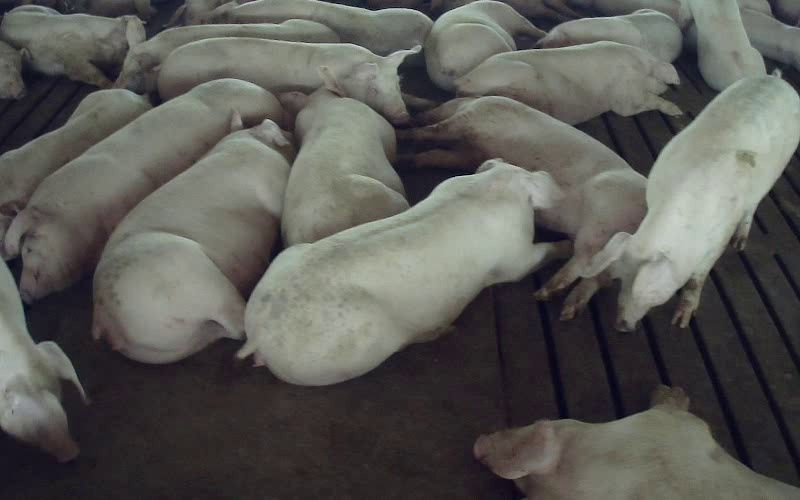pig: (5, 79, 282, 302), (398, 98, 645, 318), (588, 75, 799, 329), (93, 113, 292, 362), (474, 387, 799, 499), (0, 89, 150, 250), (280, 67, 408, 246), (454, 41, 680, 124), (115, 16, 338, 93), (209, 0, 432, 55), (424, 0, 544, 90), (0, 5, 127, 87), (679, 0, 765, 90), (538, 9, 681, 62)
